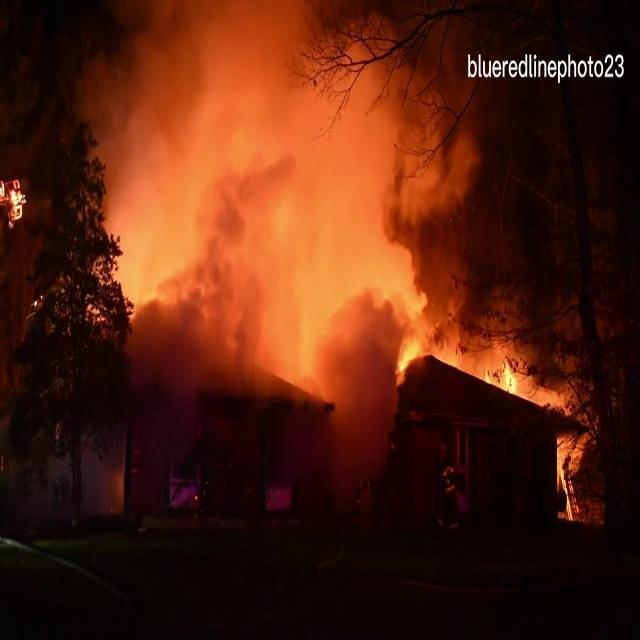Fire: (107, 29, 538, 417), (0, 169, 26, 228)
